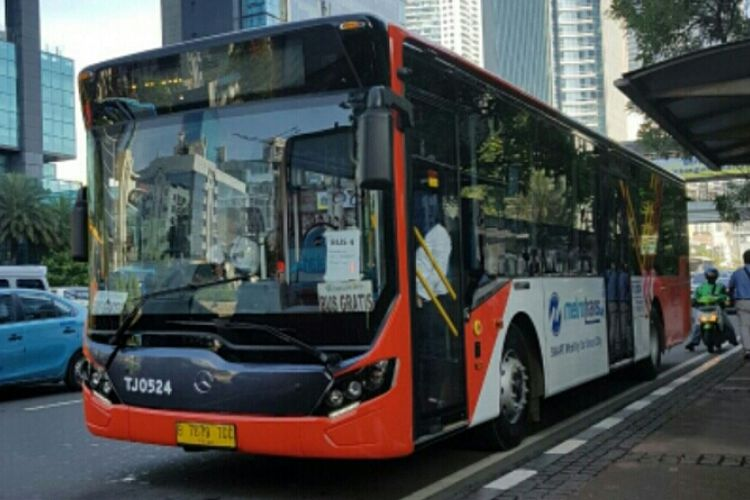plate: (175, 422, 235, 449)
